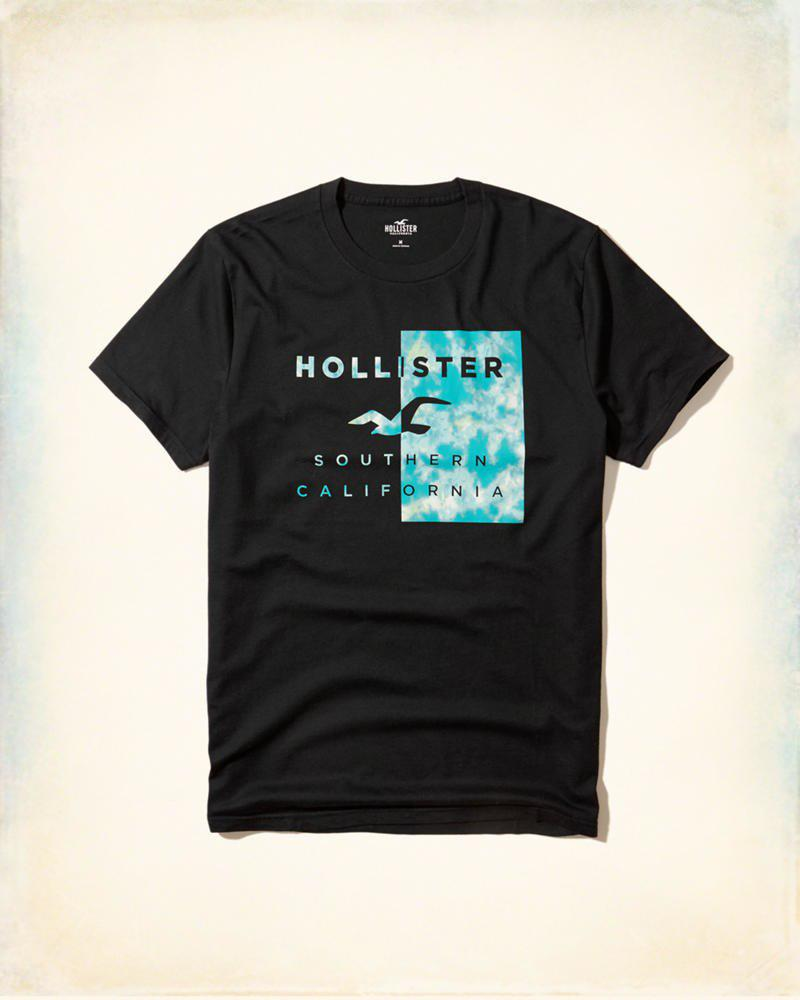teeshirt: (89, 166, 742, 893)
